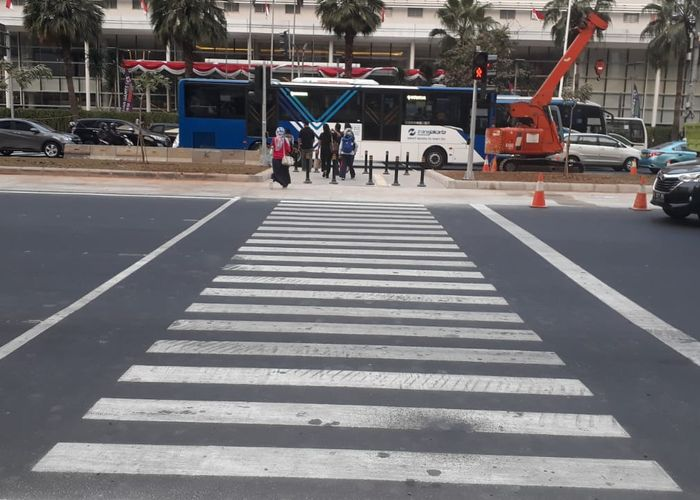bollard: (633, 171, 650, 216), (530, 170, 548, 211), (366, 152, 377, 188), (381, 143, 392, 178), (417, 157, 429, 189), (302, 151, 313, 185), (392, 155, 400, 187), (481, 153, 492, 175), (403, 151, 412, 175)
zebracross: (213, 196, 468, 500)
